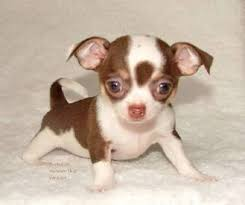chihuahua: (24, 20, 218, 177)
